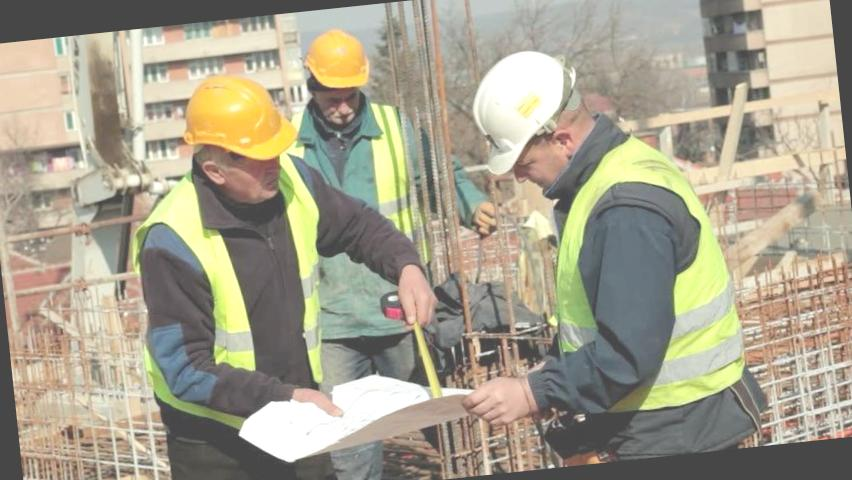helmet: (459, 43, 590, 184), (171, 69, 303, 176), (294, 23, 378, 104)
person: (464, 19, 761, 472), (127, 65, 357, 480), (278, 19, 458, 480)
